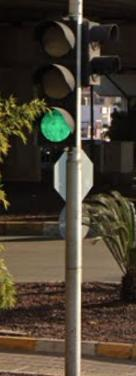greenlight: (34, 18, 81, 145)
